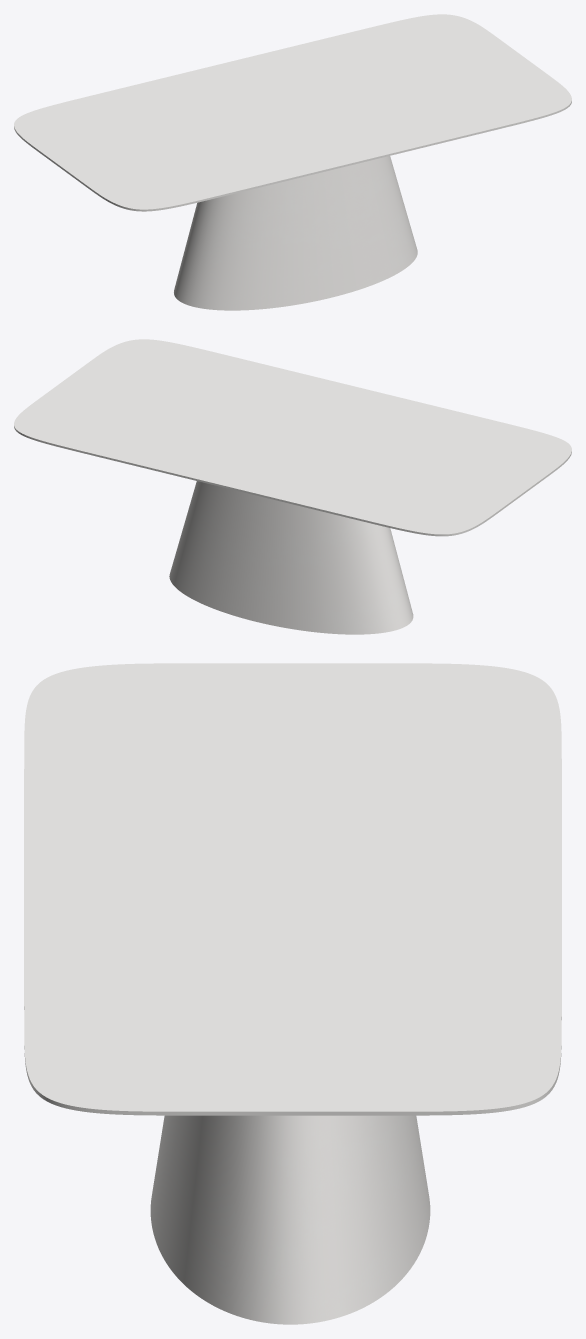
Rendered from purewhite_softrecta_facet_eqone.glb.
3 renders of one model, top to bottom at view 1: azimuth 30°, elevation 25°; view 2: azimuth 150°, elevation 25°; view 3: azimuth 270°, elevation 25°, orthographic. The views are drawn at different scales.
Parts seen in each view (by area): view 1: facet_softrecta, eqone; view 2: facet_softrecta, eqone; view 3: facet_softrecta, eqone.
Part boxes in pixels (x1,y1,x2,y2): facet_softrecta: (14,14,571,211); eqone: (174,156,417,310); facet_softrecta: (14,339,571,536); eqone: (169,481,413,634); facet_softrecta: (24,663,561,1115); eqone: (150,1115,430,1324).
Size of the model in its own units: 7.5 by 2.5 by 3.8.
Materials: 1 (1 with a texture image).
